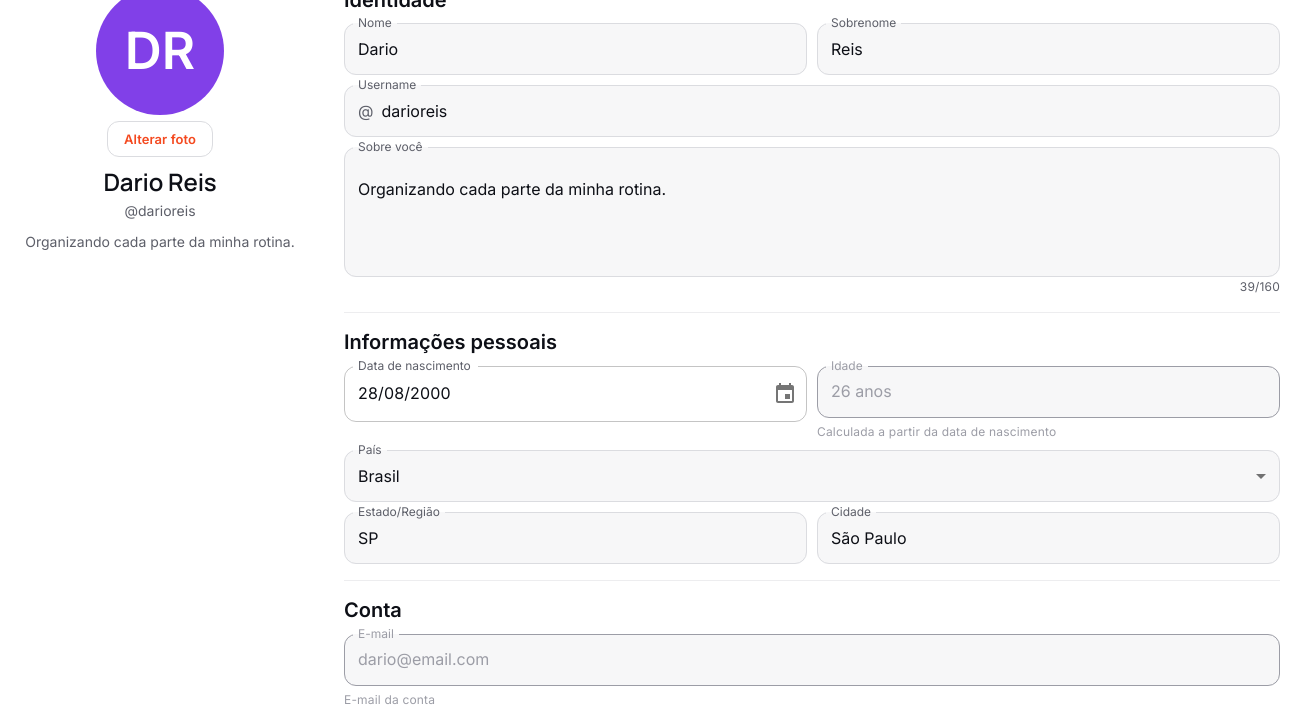
Scenario: ProfileForm › enables save once a field is changed to a valid value
Type " Editado" into the field labelled "Nome" at x=576, y=49, box [344,24,807,75]
(page scrolled)
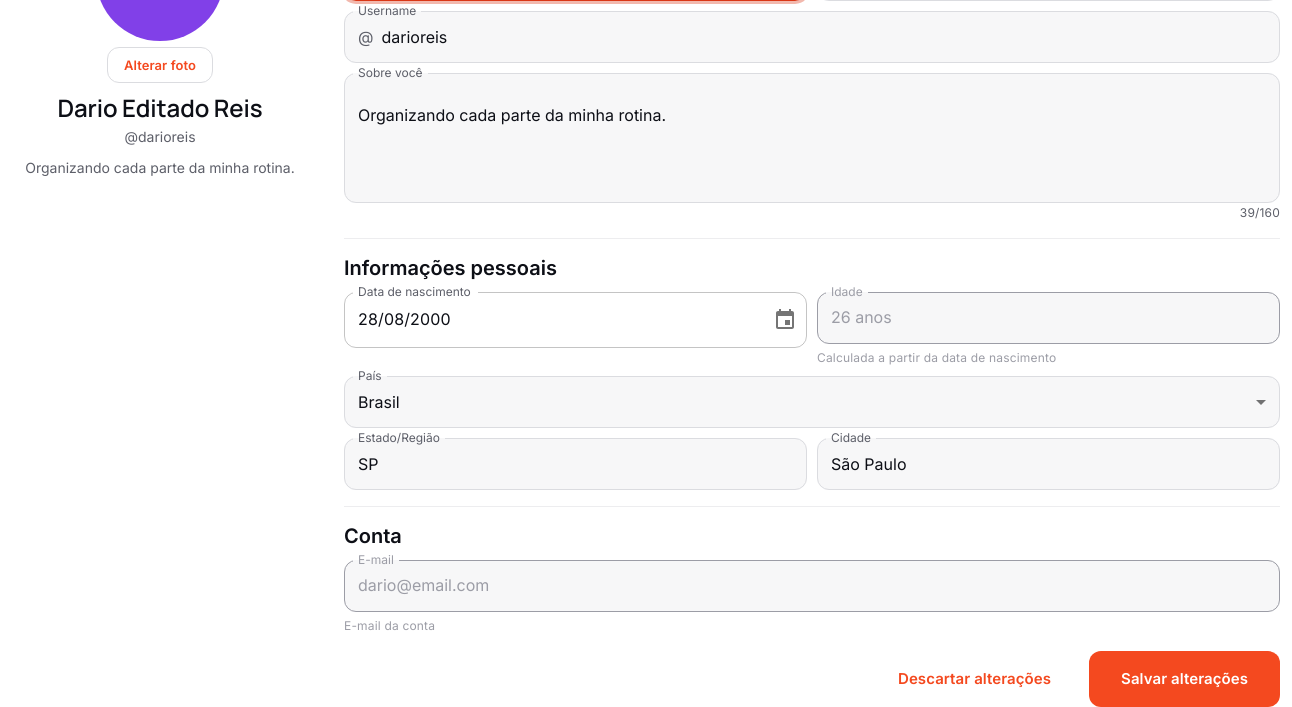
Now the button "Salvar alterações" is enabled, box [1089,651,1280,706]
Now the button "Descartar alterações" is enabled, box [866,651,1083,706]
